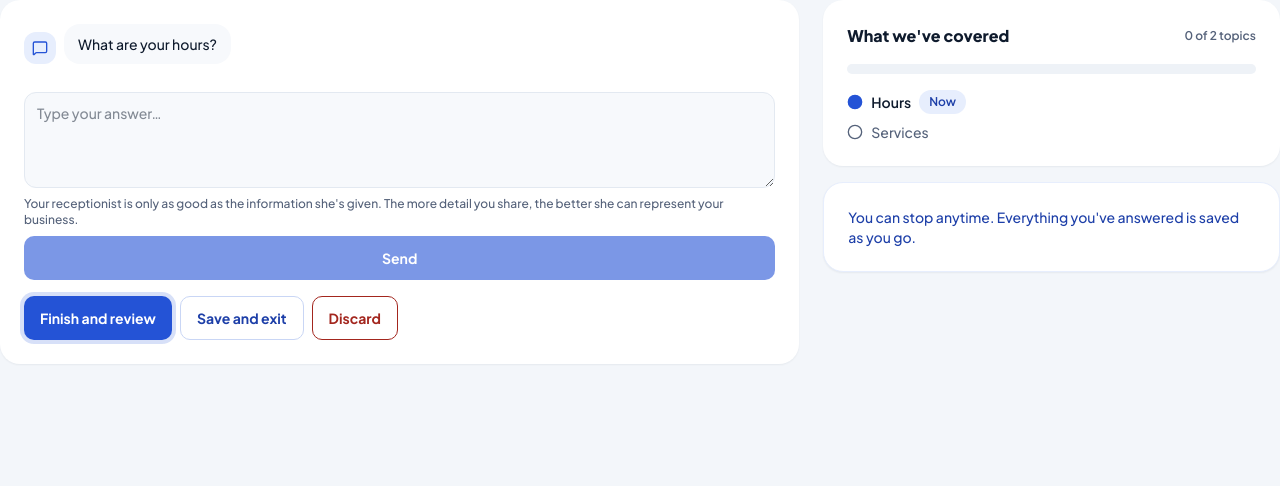
Test: InterviewChat send UX › shows Try again after ok:false and retries with the same clientMessageId
In the text box named "Interview answer": (400, 140) [24,92,775,188], type "Open Saturdays"
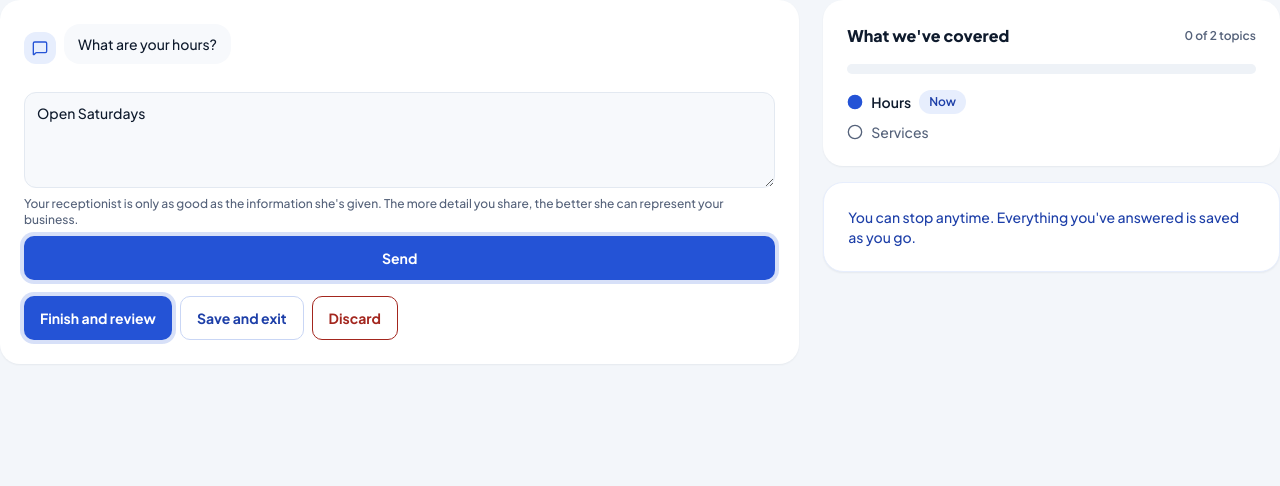
Click the button "Send": (400, 258) [24,236,775,280]
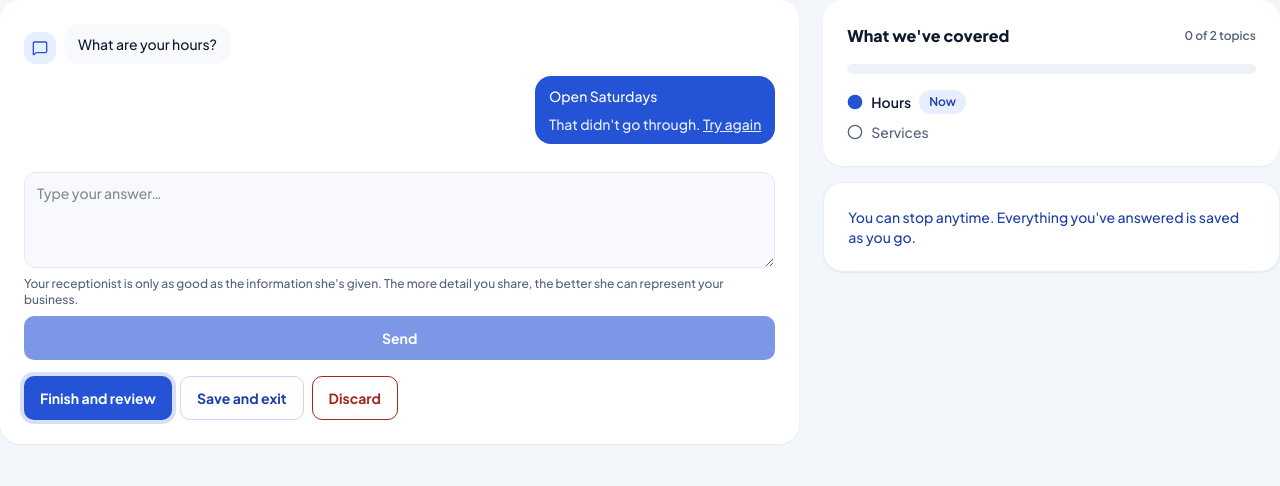
Result: the button "Try again" is shown
Click the button "Try again": (732, 124) [703,114,761,134]
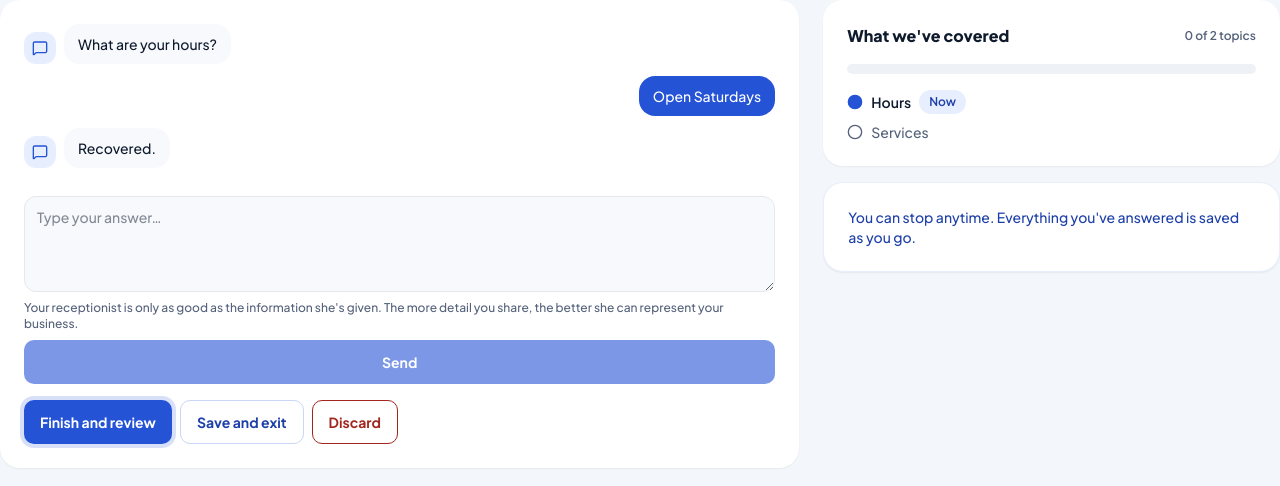
Result: the text "Recovered." is shown at [64,128,170,168]
